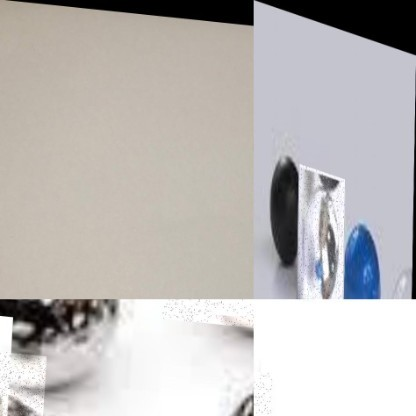ironball: (0, 299, 136, 398), (297, 160, 345, 299), (287, 377, 415, 415), (0, 343, 50, 415), (216, 338, 253, 415)
